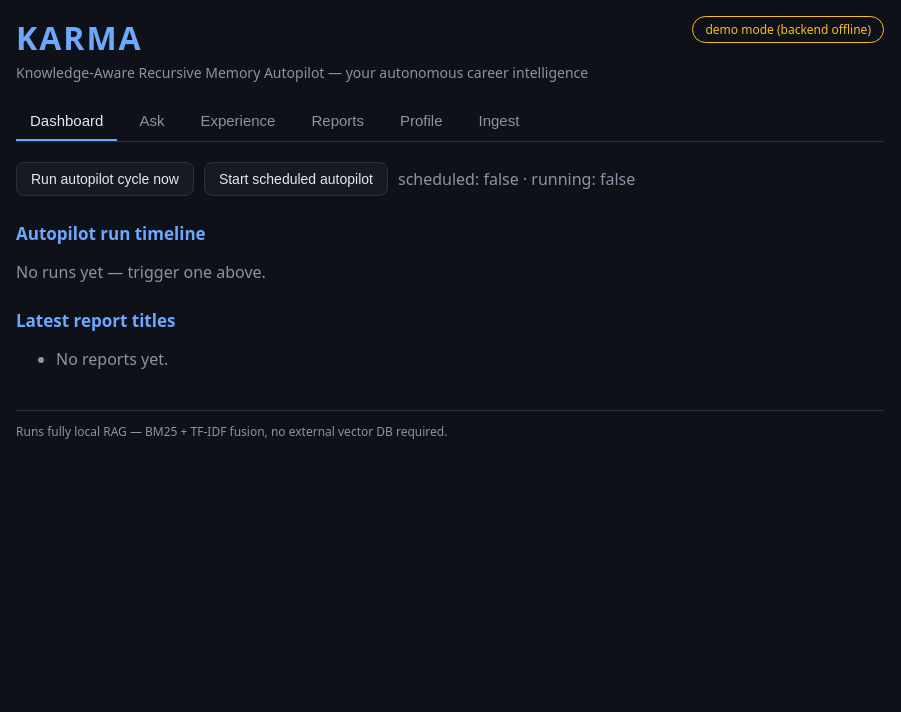
Test case: Profile tab (editor) › loads the stored profile into the form and saves changes
Click the button with test id "tab-Profile" at (421, 122), box [386,102,456,141]
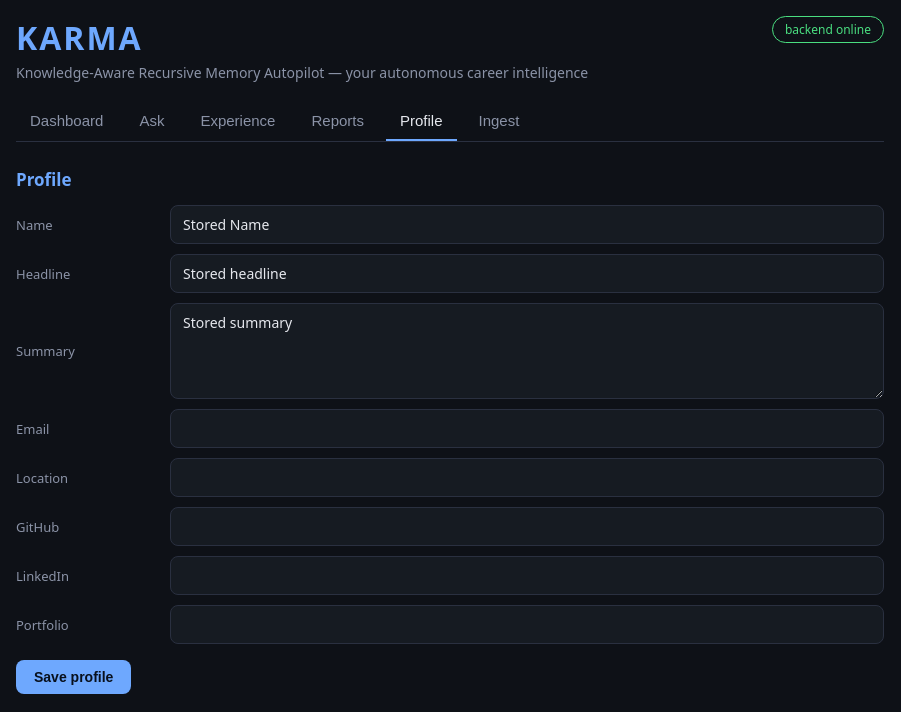
Check: the field with test id "profile-name" holds "Stored Name"
Check: the text box with test id "profile-summary" holds "Stored summary", box [170,303,884,399]
Replace the text in the field with test id "profile-name" with "Saved Name" at (527, 225), box [170,205,884,244]
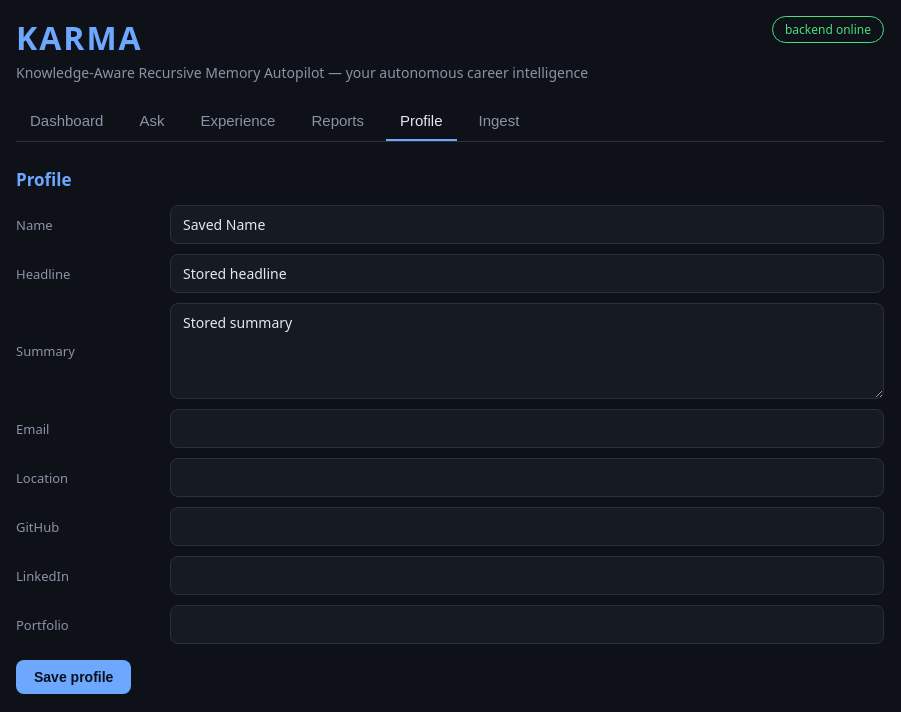
Click the button with test id "profile-save" at (74, 677), box [16,660,131,694]
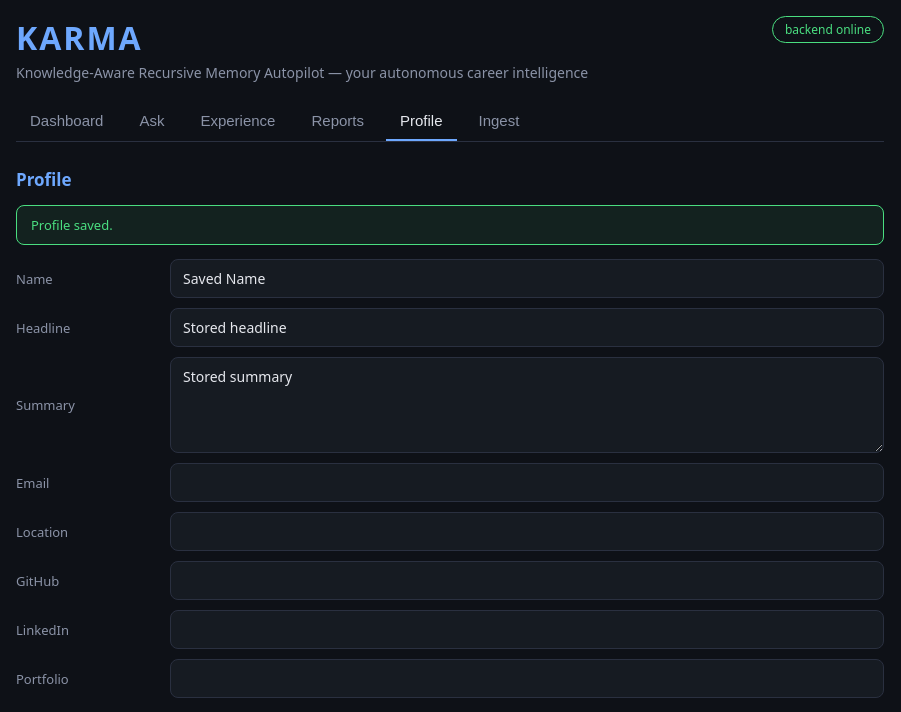
Check: the text with test id "profile-notice" reads "Profile saved.", box [31,216,113,234]
